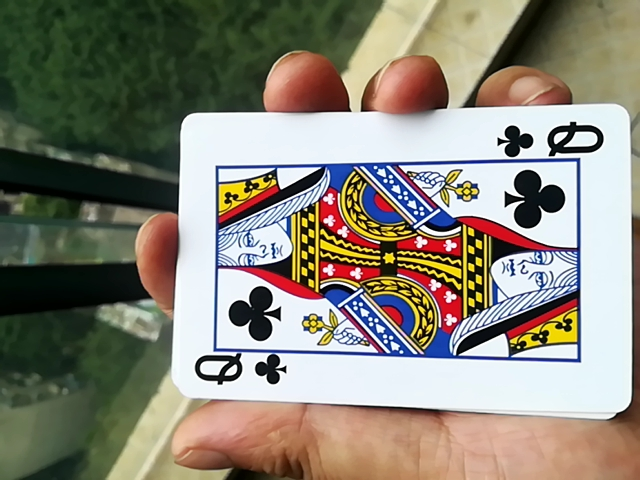mh q: (154, 104, 629, 418)
